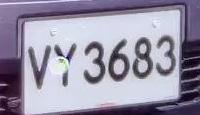3: (81, 35, 108, 87), (152, 30, 178, 83)
6: (106, 34, 133, 86)
8: (131, 32, 156, 83)
V: (26, 40, 56, 91)
Y: (51, 37, 80, 90)
